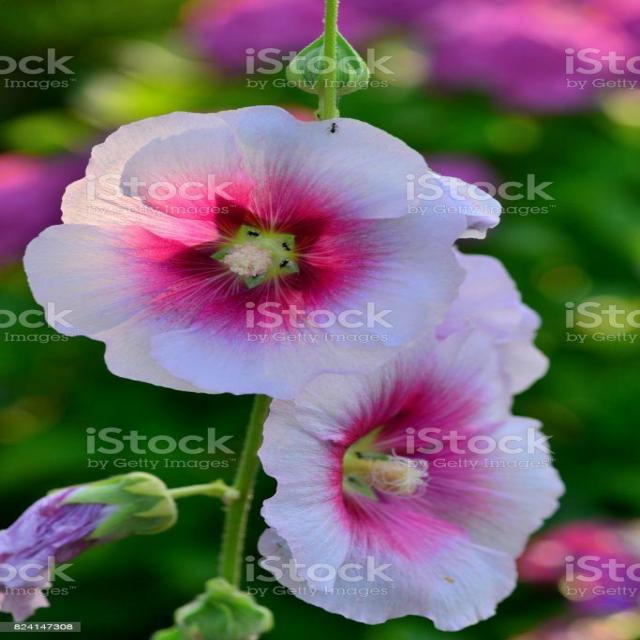organic waste: (49, 111, 424, 381), (240, 345, 552, 633)
